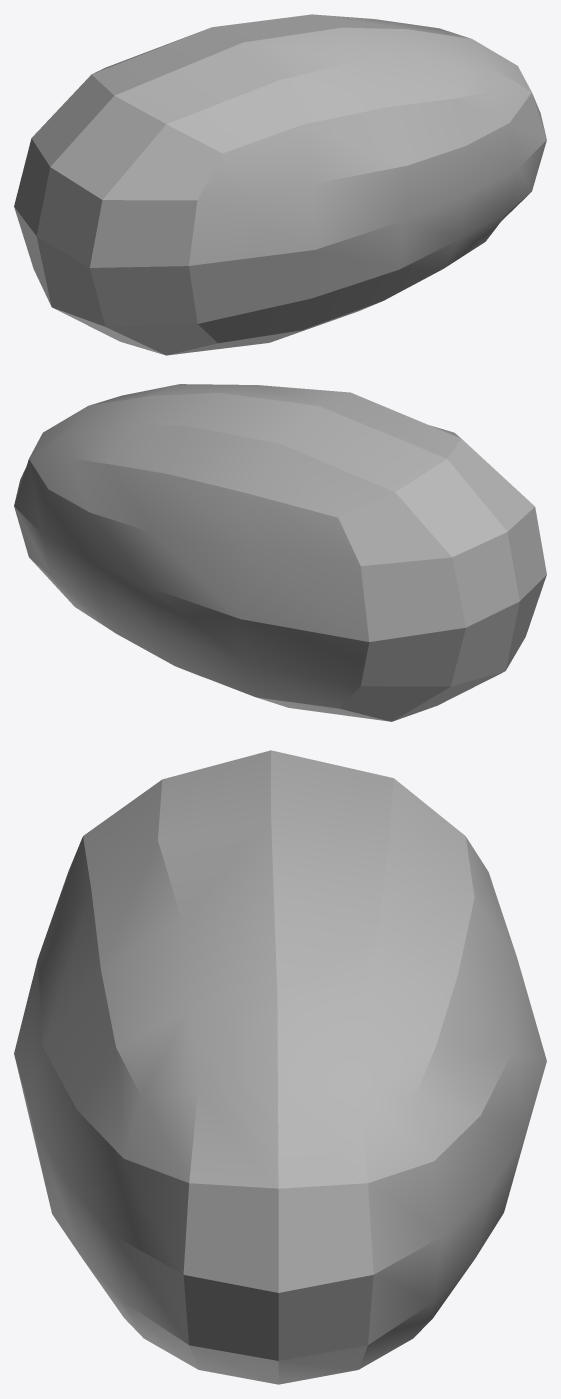
File: rock_001.glb
3 views of the same model, one above another, from view 1: azimuth 30°, elevation 25°; view 2: azimuth 150°, elevation 25°; view 3: azimuth 270°, elevation 25° (orthographic). The views are drawn at different scales.
Parts seen in each view (by area): view 1: rock.001; view 2: rock.001; view 3: rock.001.
Boxes of the visible parts, bbox=[...] form: rock.001: bbox=[14, 14, 546, 355]; rock.001: bbox=[14, 384, 546, 721]; rock.001: bbox=[14, 750, 546, 1384].
Bounding box in the file's own units: 2.07 × 1.13 × 1.16.
1 material, 1 textured.
